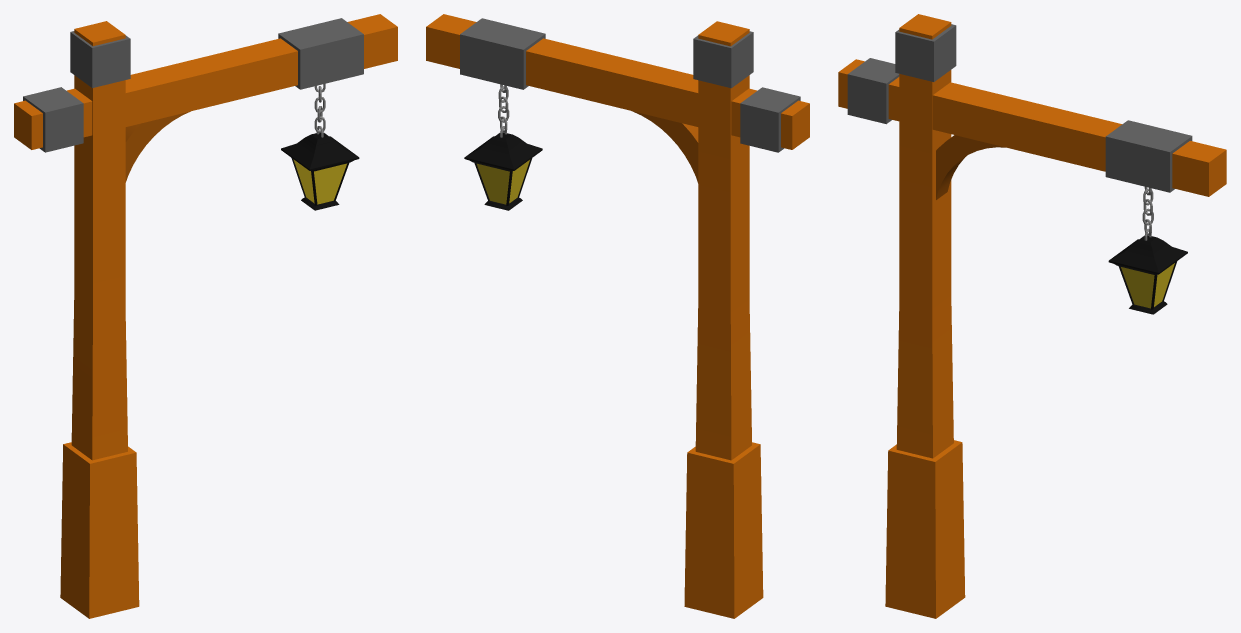
Rendered from StreetLight2.fbx.
The picture shows the model from 3 angles, left to right: view 1: azimuth 30°, elevation 25°; view 2: azimuth 150°, elevation 25°; view 3: azimuth 330°, elevation 25°; orthographic projection.
Parts seen in each view (by area): view 1: pTorus10; view 2: pTorus10; view 3: pTorus10.
Part boxes in pixels (bbox=[...]): pTorus10: bbox=[14, 14, 397, 618]; pTorus10: bbox=[426, 14, 809, 618]; pTorus10: bbox=[838, 14, 1226, 618].
Size of the model in its own units: 9.56 by 14.24 by 1.31.
Materials: 3 (3 with a texture image).
